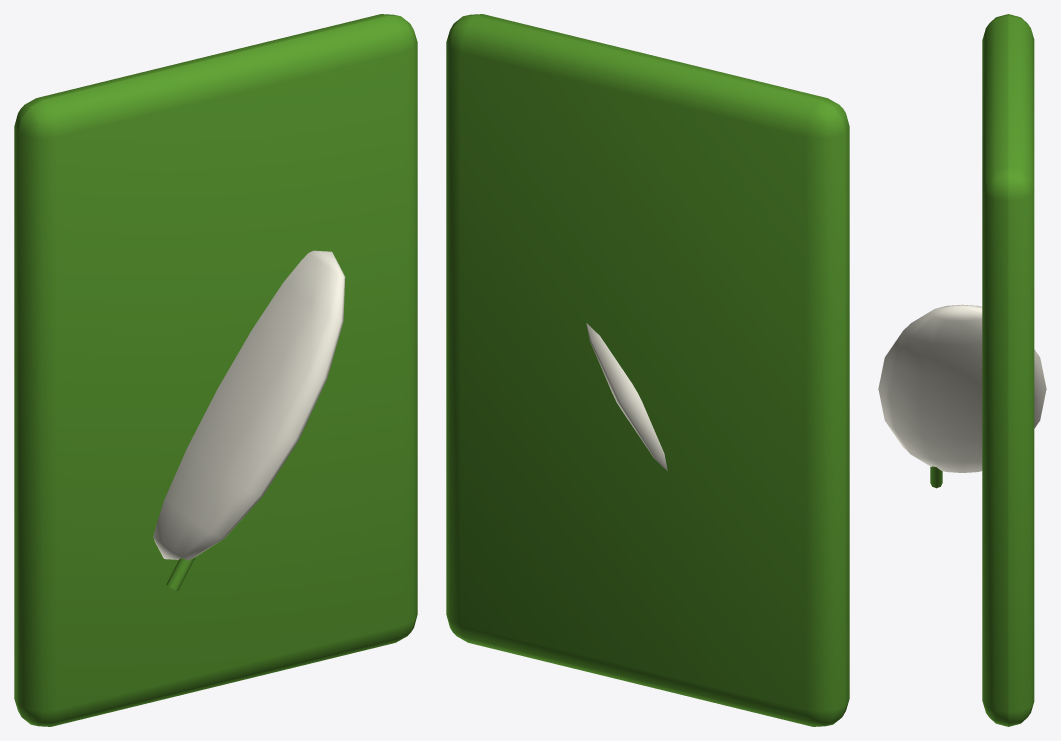
The model's file is card_leaf.glb.
The picture shows the model from 3 angles, left to right: view 1: azimuth 30°, elevation 25°; view 2: azimuth 150°, elevation 25°; view 3: azimuth 270°, elevation 25°; orthographic projection. The views are drawn at different scales.
Parts seen in each view (by area): view 1: card_leaf; view 2: card_leaf; view 3: card_leaf.
Boxes of the visible parts, bbox=[...] form: card_leaf: bbox=[14, 14, 417, 726]; card_leaf: bbox=[446, 14, 849, 726]; card_leaf: bbox=[878, 14, 1046, 726].
Bounding box in the file's own units: 0.47 × 0.71 × 0.194.
